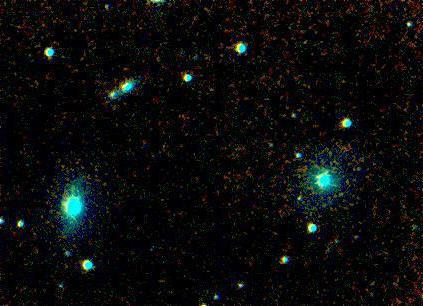star: (50, 190, 80, 220)
